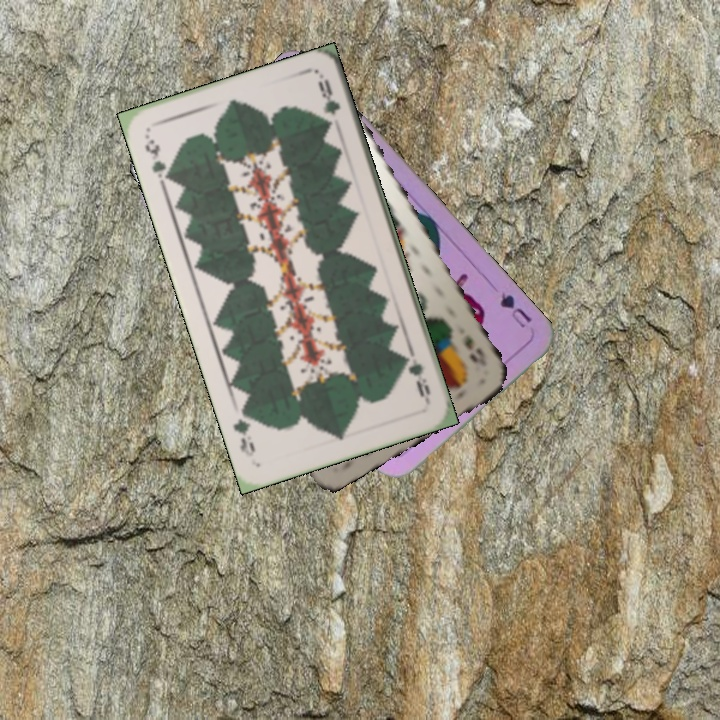EK: (459, 331, 490, 369)
G9: (399, 348, 434, 406), (140, 130, 175, 188)
GU: (496, 288, 535, 331)
